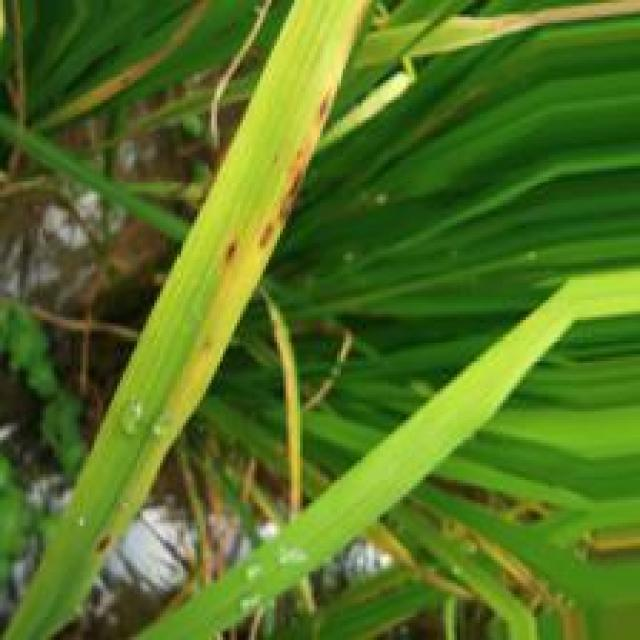Narrow_Brown_Leaf_Spot: (93, 70, 337, 572)
